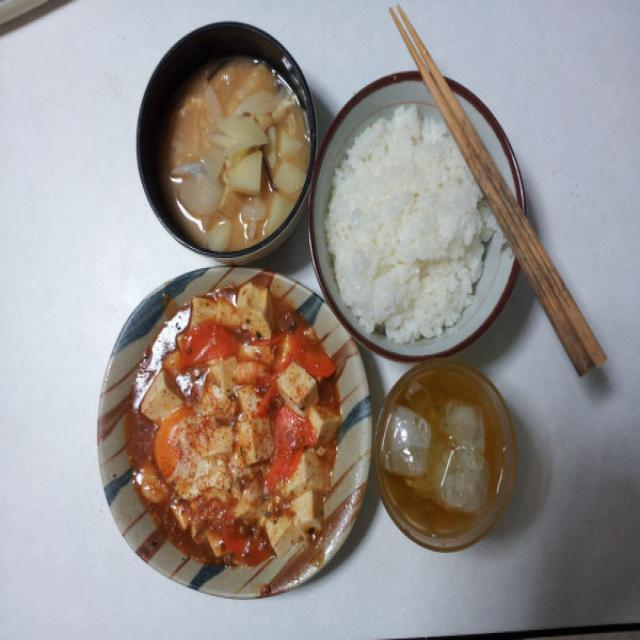Rice: (333, 94, 494, 325)
